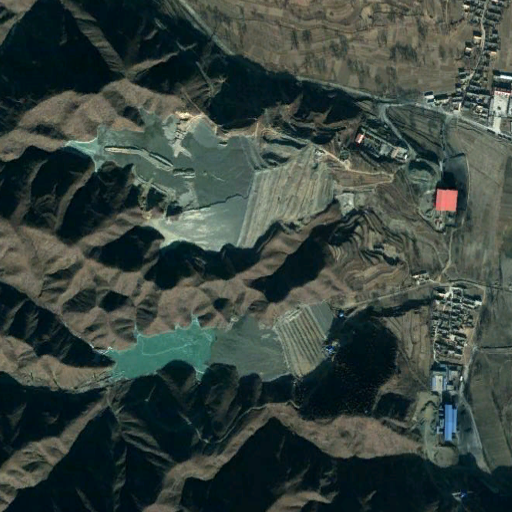tp: (64, 105, 335, 252), (93, 305, 332, 383)
